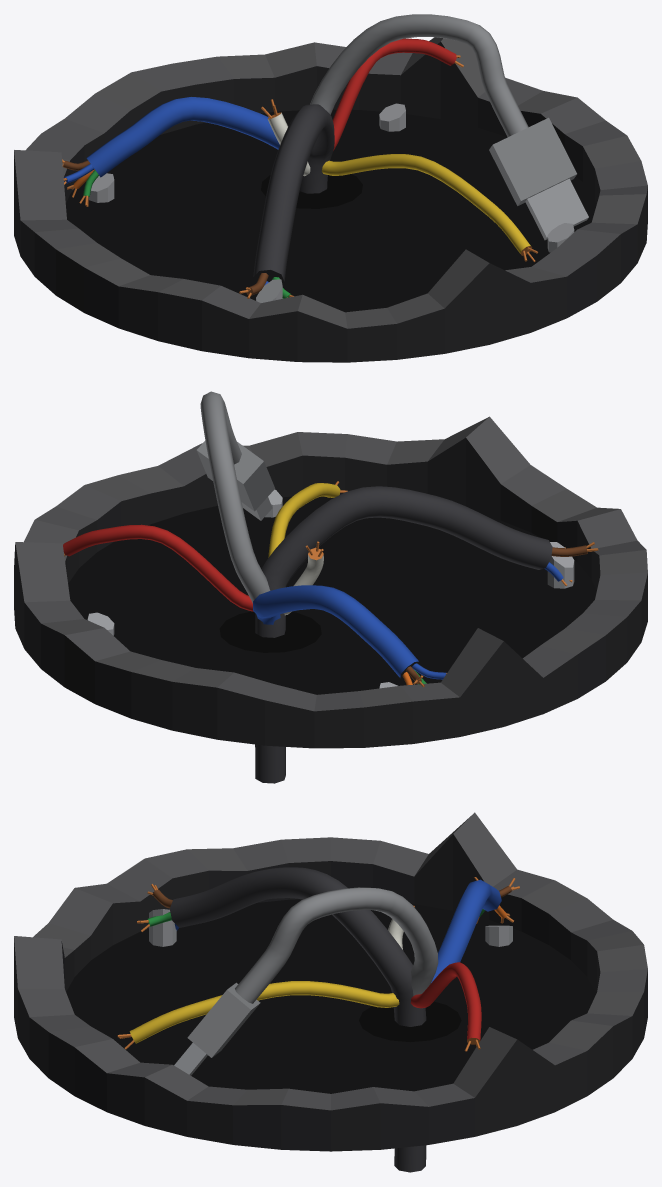
File: hueco_del_lector.glb
The picture shows the model from 3 angles, top to bottom: view 1: azimuth 30°, elevation 25°; view 2: azimuth 150°, elevation 25°; view 3: azimuth 270°, elevation 25°; orthographic projection.
Parts seen in each view (by area): view 1: hueco_del_lector; view 2: hueco_del_lector; view 3: hueco_del_lector.
Boxes of the visible parts, x1,y1,x2,y2 form: hueco_del_lector: (14, 14, 647, 362); hueco_del_lector: (14, 391, 647, 783); hueco_del_lector: (14, 812, 647, 1172).
Size of the model in its own units: 0.16 by 0.0895 by 0.16.
Materials: 2 (2 with a texture image).
